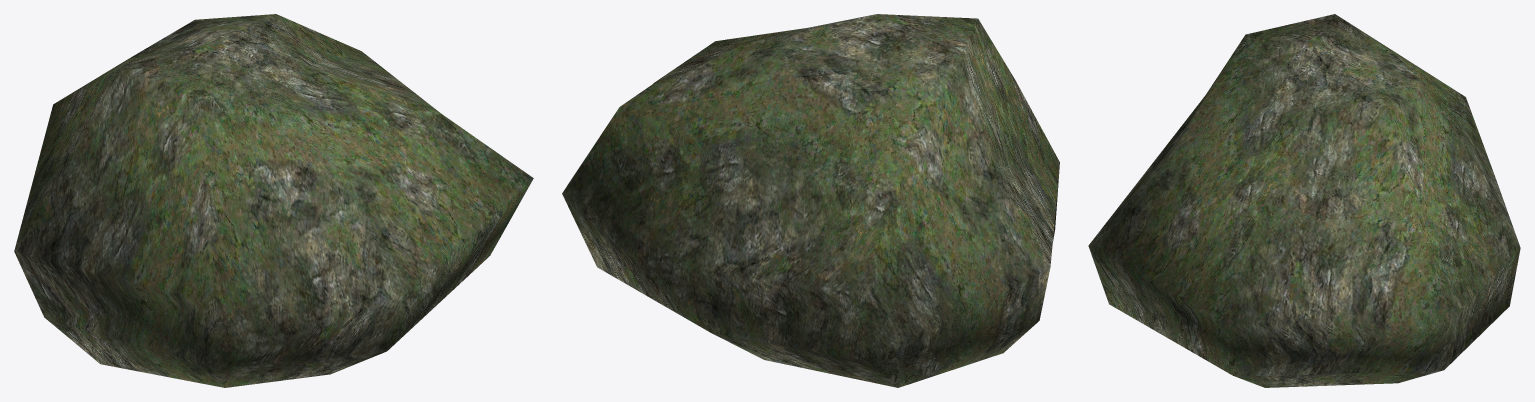
File: mtns_rock_moss_a8_l0.fbx
3 renders of one model, left to right at view 1: azimuth 30°, elevation 25°; view 2: azimuth 150°, elevation 25°; view 3: azimuth 270°, elevation 25°, orthographic. The views are drawn at different scales.
Parts seen in each view (by area): view 1: mesh_node; view 2: mesh_node; view 3: mesh_node.
Boxes of the visible parts, x1,y1,x2,y2 form: mesh_node: (14,14,533,387); mesh_node: (562,14,1059,387); mesh_node: (1088,14,1520,387).
Bounding box in the file's own units: 1.93 × 1.21 × 1.69.
